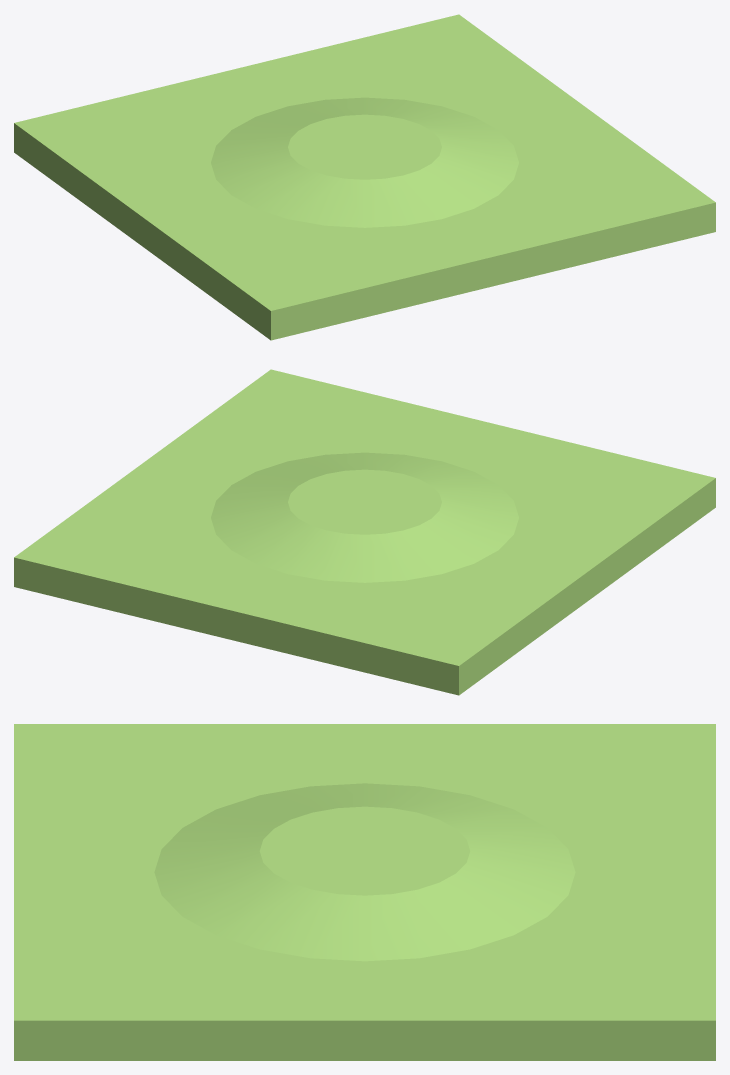
File: Bump_01.glb
3 renders of one model, top to bottom at view 1: azimuth 30°, elevation 25°; view 2: azimuth 150°, elevation 25°; view 3: azimuth 270°, elevation 25°, orthographic. The views are drawn at different scales.
Parts seen in each view (by area): view 1: Mesh1 Bump Model; view 2: Mesh1 Bump Model; view 3: Mesh1 Bump Model.
Boxes of the visible parts, left/top/right/bottom form: Mesh1 Bump Model: left=14, top=14, right=715, bottom=340; Mesh1 Bump Model: left=14, top=369, right=715, bottom=695; Mesh1 Bump Model: left=14, top=724, right=715, bottom=1060.
Size of the model in its own units: 3 by 0.29 by 3.
